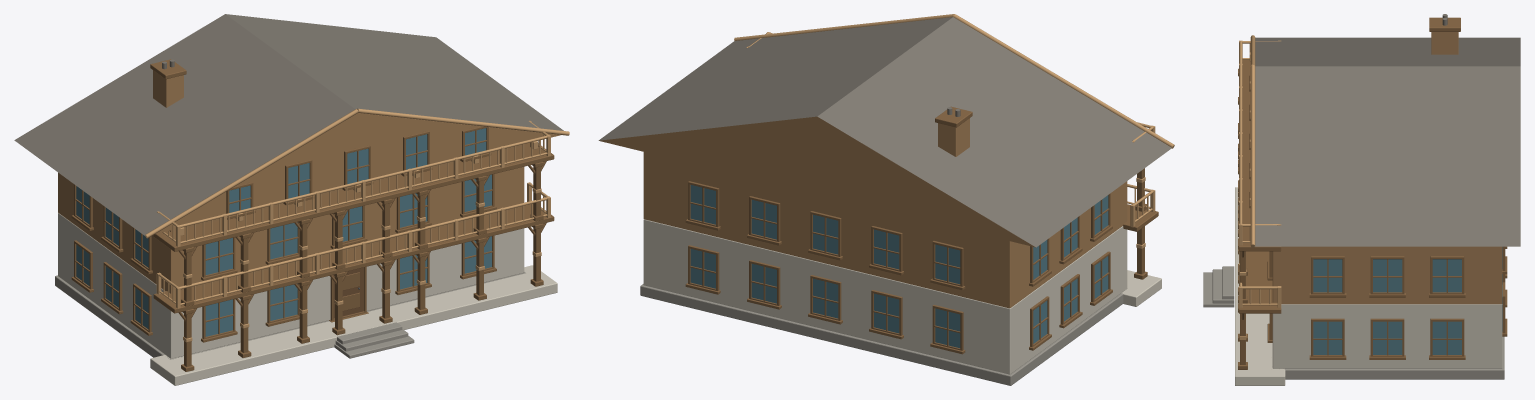
The model's file is large_swiss_chalet.glb.
3 views of the same model, side by side, from view 1: azimuth 30°, elevation 25°; view 2: azimuth 150°, elevation 25°; view 3: azimuth 270°, elevation 25° (orthographic). The views are drawn at different scales.
Parts seen in each view (by area): view 1: Very wide overhanging chalet roof solid gabled roof, Broad chalet stone ground floor closed exterior walls, Closed timber upper chalet story, Chalet front veranda stone platform, Second full-width timber balcony, First full-width timber balcony, Broad chalet stone ground floor closed foundation, Second broad carved balcony railing top rail, First broad carved balcony railing top rail, Left chalet gable bargeboard, Right chalet gable bargeboard, Second broad carved balcony railing lower rail (+18 smaller); view 2: Very wide overhanging chalet roof solid gabled roof, Broad chalet stone ground floor closed exterior walls, Closed timber upper chalet story, Broad chalet stone ground floor closed foundation, Left chalet gable bargeboard, Chalet front veranda stone platform, Chalet stone chimney brick shaft, Right chalet gable bargeboard, Chalet rear sash glazing, Chalet rear sash glazing.004, Chalet rear sash glazing.008, Chalet rear sash glazing.005 (+6 smaller); view 3: Very wide overhanging chalet roof solid gabled roof, Broad chalet stone ground floor closed exterior walls, Closed timber upper chalet story, Chalet front veranda stone platform, Broad chalet stone ground floor closed foundation, Second full-width timber balcony, First full-width timber balcony, Right chalet gable bargeboard, Chalet side sash glazing, Chalet side sash glazing.001, Chalet side sash glazing.002, Chalet side sash glazing.004 (+9 smaller).
Boxes of the visible parts, box(x1,y1,x2,y2) form: Very wide overhanging chalet roof solid gabled roof: box(14, 14, 563, 235); Broad chalet stone ground floor closed exterior walls: box(58, 213, 524, 358); Closed timber upper chalet story: box(58, 144, 524, 293); Chalet front veranda stone platform: box(150, 265, 557, 385); Second full-width timber balcony: box(153, 143, 554, 251); First full-width timber balcony: box(153, 204, 554, 313); Broad chalet stone ground floor closed foundation: box(55, 272, 525, 359); Second broad carved balcony railing top rail: box(178, 135, 548, 227); First broad carved balcony railing top rail: box(178, 197, 548, 289); Left chalet gable bargeboard: box(145, 109, 358, 238); Right chalet gable bargeboard: box(357, 108, 569, 135); Second broad carved balcony railing lower rail: box(180, 152, 547, 243); Very wide overhanging chalet roof solid gabled roof: box(598, 17, 1171, 247); Broad chalet stone ground floor closed exterior walls: box(643, 219, 1127, 374); Closed timber upper chalet story: box(643, 152, 1127, 308); Broad chalet stone ground floor closed foundation: box(640, 284, 1123, 385); Left chalet gable bargeboard: box(953, 14, 1174, 148); Chalet front veranda stone platform: box(1121, 270, 1161, 306); Chalet stone chimney brick shaft: box(938, 118, 969, 156); Right chalet gable bargeboard: box(734, 14, 954, 40); Chalet rear sash glazing: box(935, 308, 960, 348); Chalet rear sash glazing.004: box(813, 278, 838, 318); Chalet rear sash glazing.008: box(690, 249, 715, 288); Chalet rear sash glazing.005: box(813, 214, 838, 254); Very wide overhanging chalet roof solid gabled roof: box(1254, 37, 1520, 246); Broad chalet stone ground floor closed exterior walls: box(1272, 304, 1502, 368); Closed timber upper chalet story: box(1272, 246, 1502, 304); Chalet front veranda stone platform: box(1235, 187, 1285, 385); Broad chalet stone ground floor closed foundation: box(1284, 336, 1504, 379); Second full-width timber balcony: box(1239, 60, 1281, 251); First full-width timber balcony: box(1239, 251, 1281, 313); Right chalet gable bargeboard: box(1250, 65, 1255, 247); Chalet side sash glazing: box(1313, 321, 1342, 354); Chalet side sash glazing.001: box(1313, 259, 1342, 292); Chalet side sash glazing.002: box(1373, 321, 1402, 354); Chalet side sash glazing.004: box(1432, 321, 1461, 354).
Size of the model in its own units: 21.56 by 10.95 by 13.83.
